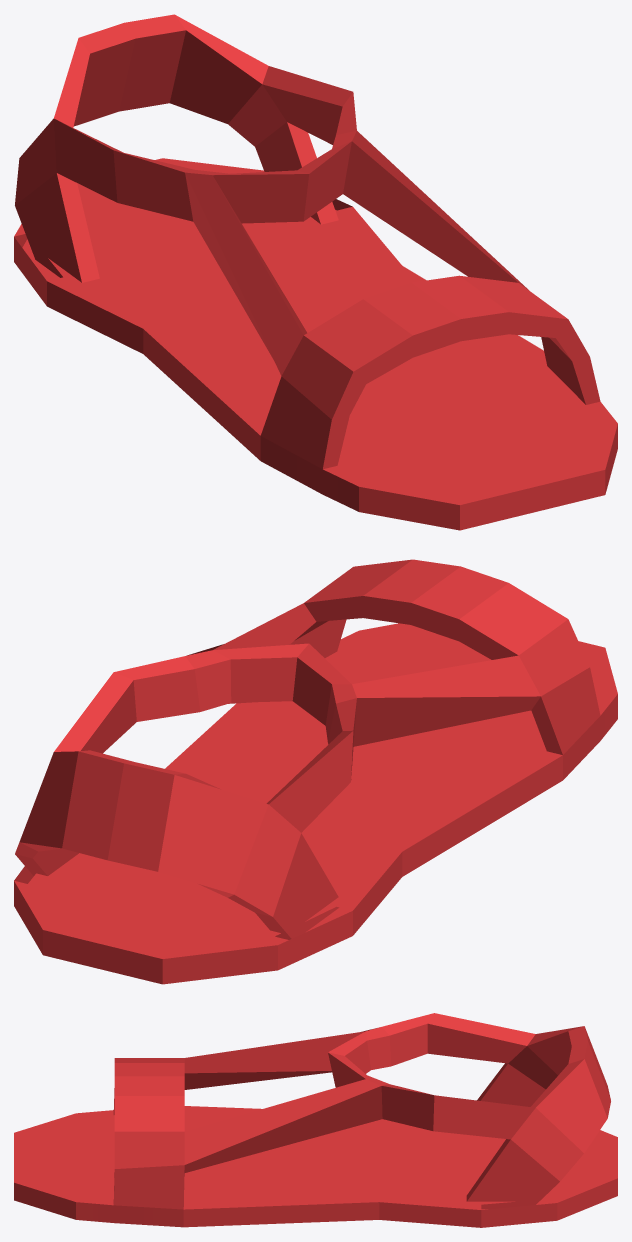
File: sandal fixed.fbx
3 views of the same model, one above another, from view 1: azimuth 30°, elevation 25°; view 2: azimuth 150°, elevation 25°; view 3: azimuth 270°, elevation 25° (orthographic). The views are drawn at different scales.
Visible parts, largest first — view 1: Cube1; view 2: Cube1; view 3: Cube1.
Boxes of the visible parts, <box> form: Cube1: <box>14,14,617,530</box>; Cube1: <box>14,559,617,984</box>; Cube1: <box>14,1013,617,1227</box>.
Bounding box in the file's own units: 0.1399 × 0.0834 × 0.3405.
